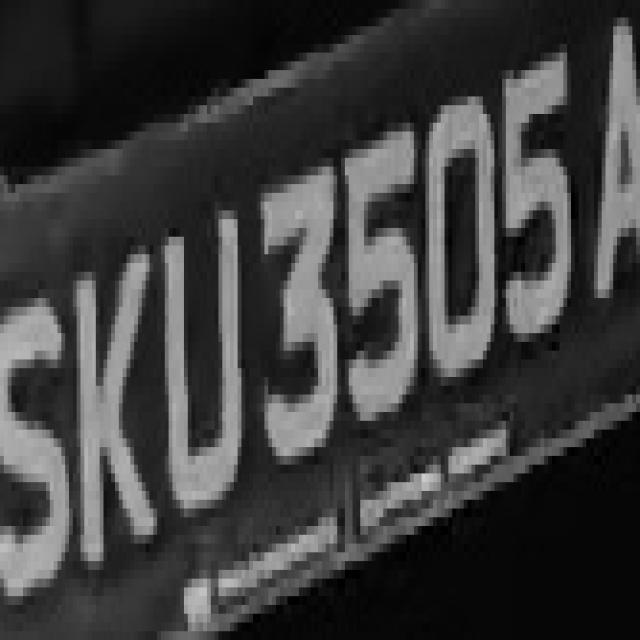0: (418, 70, 502, 421)
3: (242, 149, 341, 491)
5: (486, 26, 578, 377), (341, 114, 425, 456)
A: (575, 0, 636, 333)
K: (73, 228, 153, 579)
S: (4, 254, 76, 614)
U: (142, 193, 253, 535)
